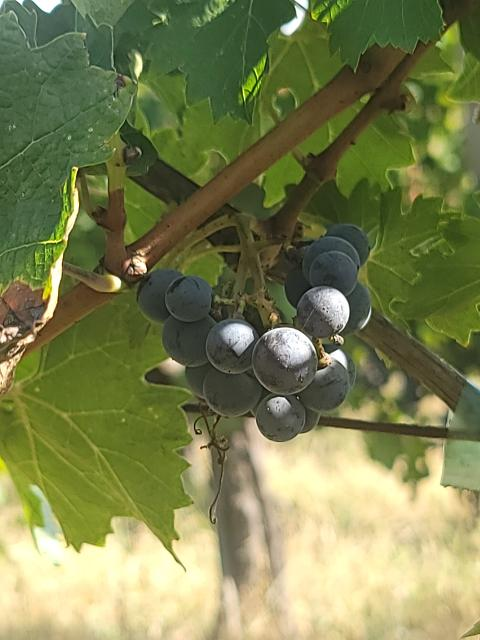grapes: (138, 224, 371, 441)
